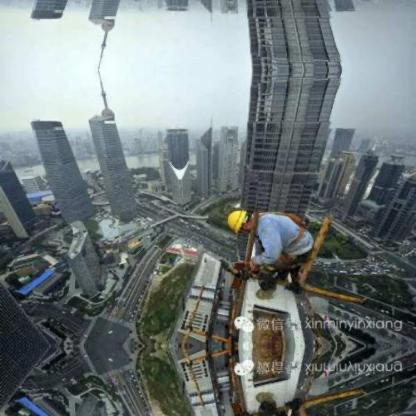Safety Helmet: (226, 205, 258, 244)
